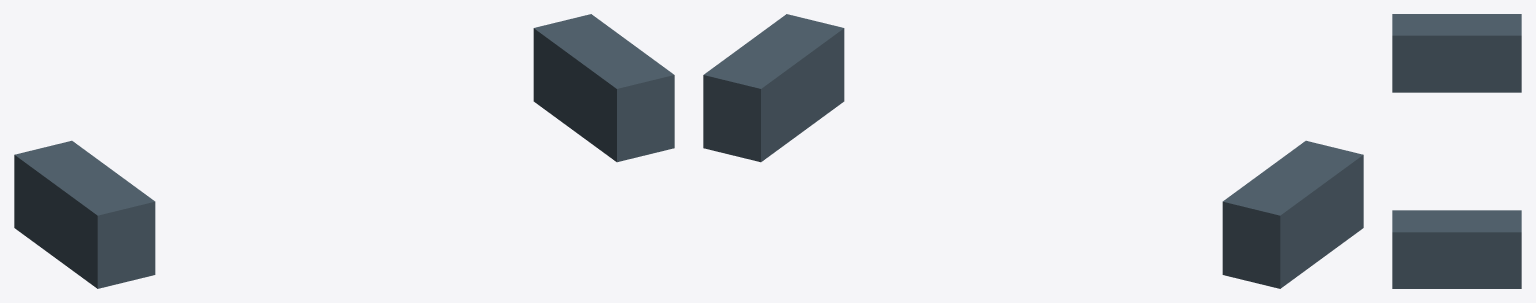
The model's file is P16-06_detail15.obj.
3 renders of one model, left to right at view 1: azimuth 30°, elevation 25°; view 2: azimuth 150°, elevation 25°; view 3: azimuth 270°, elevation 25°, orthographic. The views are drawn at different scales.
Visible parts, largest first — view 1: P16-06_STATIC_Steel_DETAIL15_SuspensionRodSeat_L, P16-06_STATIC_Steel_DETAIL15_SuspensionRodSeat_R; view 2: P16-06_STATIC_Steel_DETAIL15_SuspensionRodSeat_L, P16-06_STATIC_Steel_DETAIL15_SuspensionRodSeat_R; view 3: P16-06_STATIC_Steel_DETAIL15_SuspensionRodSeat_L, P16-06_STATIC_Steel_DETAIL15_SuspensionRodSeat_R.
Part boxes in pixels (x1,y1,x2,y2): P16-06_STATIC_Steel_DETAIL15_SuspensionRodSeat_L: (14,140,155,288); P16-06_STATIC_Steel_DETAIL15_SuspensionRodSeat_R: (533,14,674,162); P16-06_STATIC_Steel_DETAIL15_SuspensionRodSeat_L: (1222,140,1363,288); P16-06_STATIC_Steel_DETAIL15_SuspensionRodSeat_R: (703,14,844,162); P16-06_STATIC_Steel_DETAIL15_SuspensionRodSeat_L: (1392,14,1521,92); P16-06_STATIC_Steel_DETAIL15_SuspensionRodSeat_R: (1392,210,1521,288).
Size of the model in its own units: 0.28 by 0.034 by 0.07.
